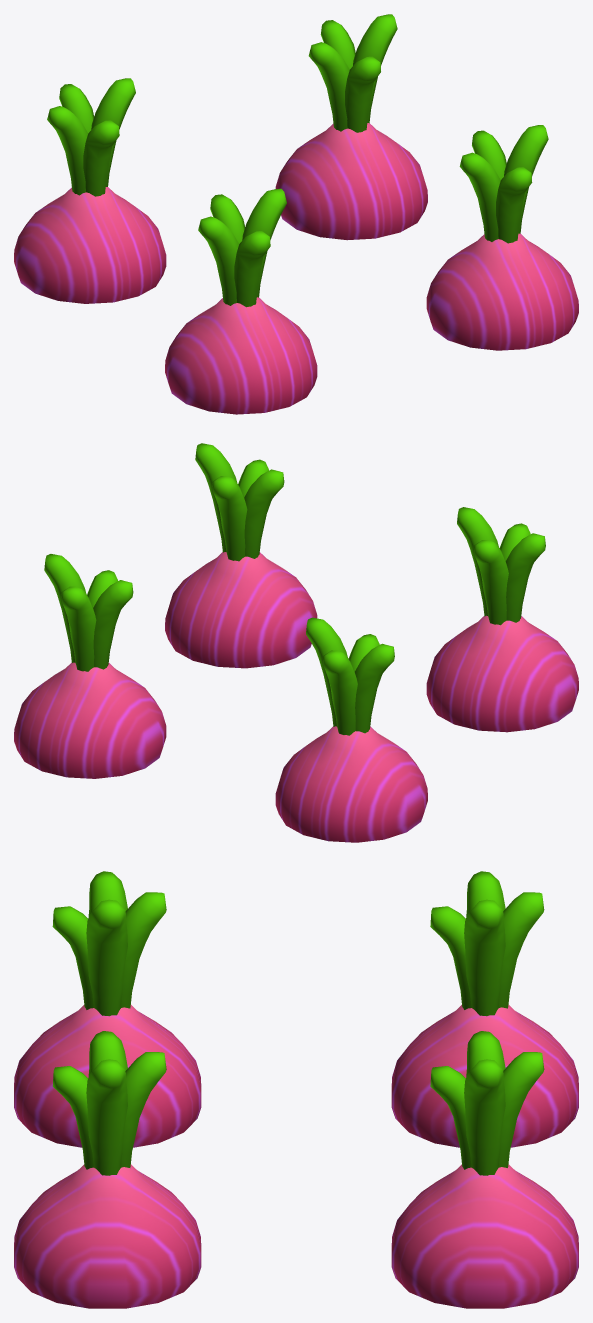
File: Farm_Crop_Onion_Step_03.fbx
3 renders of one model, top to bottom at view 1: azimuth 30°, elevation 25°; view 2: azimuth 150°, elevation 25°; view 3: azimuth 270°, elevation 25°, orthographic. The views are drawn at different scales.
Visible parts, largest first — view 1: Farm_Crop_Onion_Step_03; view 2: Farm_Crop_Onion_Step_03; view 3: Farm_Crop_Onion_Step_03.
Part boxes in pixels (left/top/right/bottom): Farm_Crop_Onion_Step_03: left=14, top=14, right=578, bottom=414; Farm_Crop_Onion_Step_03: left=14, top=443, right=578, bottom=842; Farm_Crop_Onion_Step_03: left=14, top=871, right=578, bottom=1308.
Bounding box in the file's own units: 150 × 67.04 × 150.
